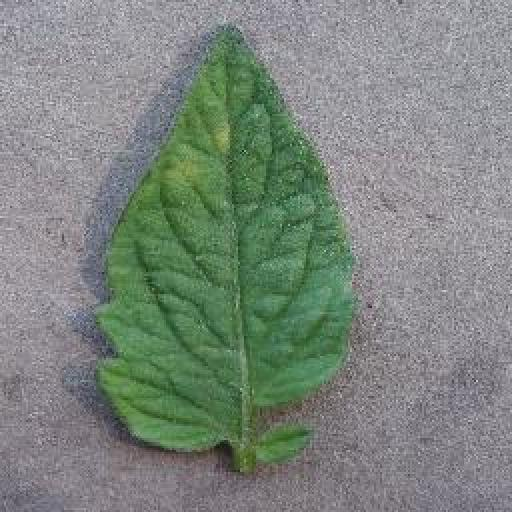disease_tomato: (100, 21, 355, 456)
